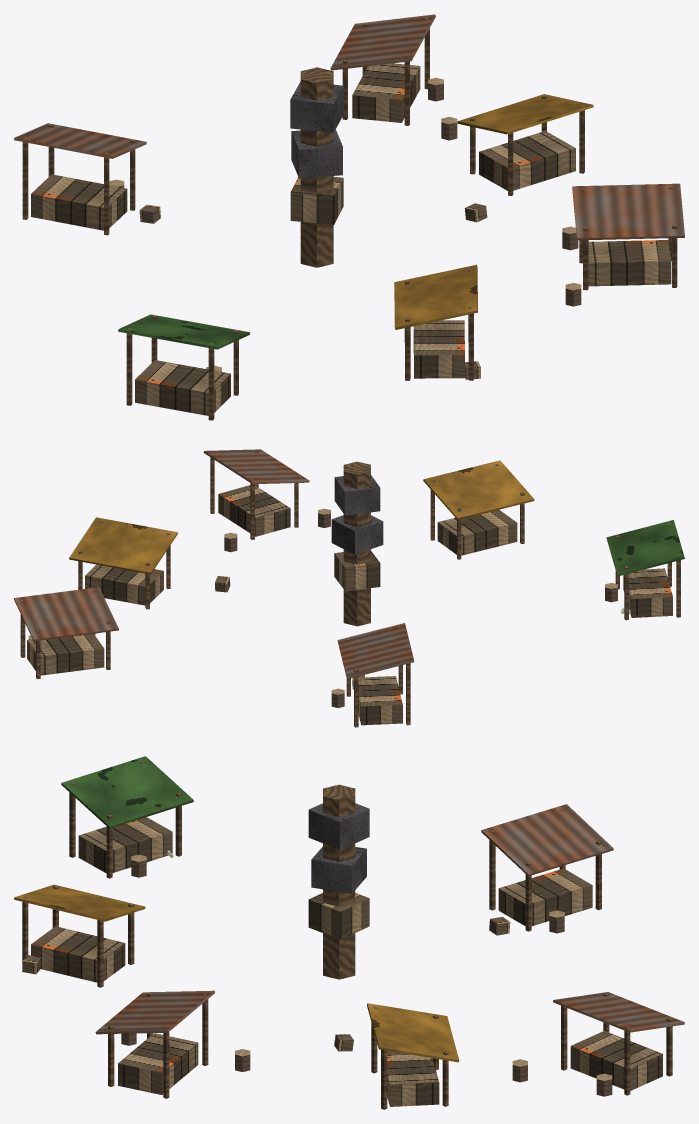
File: cm_goblin_market.glb
The picture shows the model from 3 angles, top to bottom: view 1: azimuth 30°, elevation 25°; view 2: azimuth 150°, elevation 25°; view 3: azimuth 270°, elevation 25°; orthographic projection. The views are drawn at different scales.
Parts seen in each view (by area): view 1: cm_goblin_market; view 2: cm_goblin_market; view 3: cm_goblin_market.
Part boxes in pixels (box(x1,y1,x2,y2)): cm_goblin_market: box(14, 14, 684, 420); cm_goblin_market: box(14, 449, 684, 727); cm_goblin_market: box(14, 756, 684, 1109).
Size of the model in its own units: 1.84 by 0.5464 by 1.84.
1 material, 1 textured.
